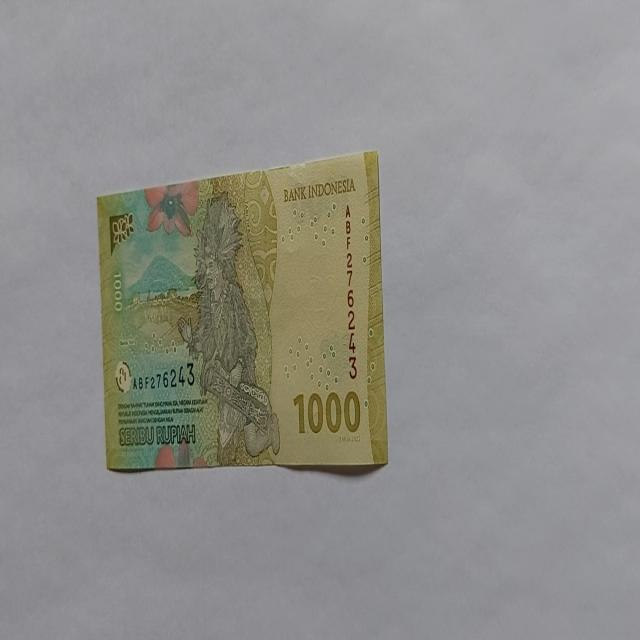seribu rupiah kertas: (95, 148, 388, 472)
